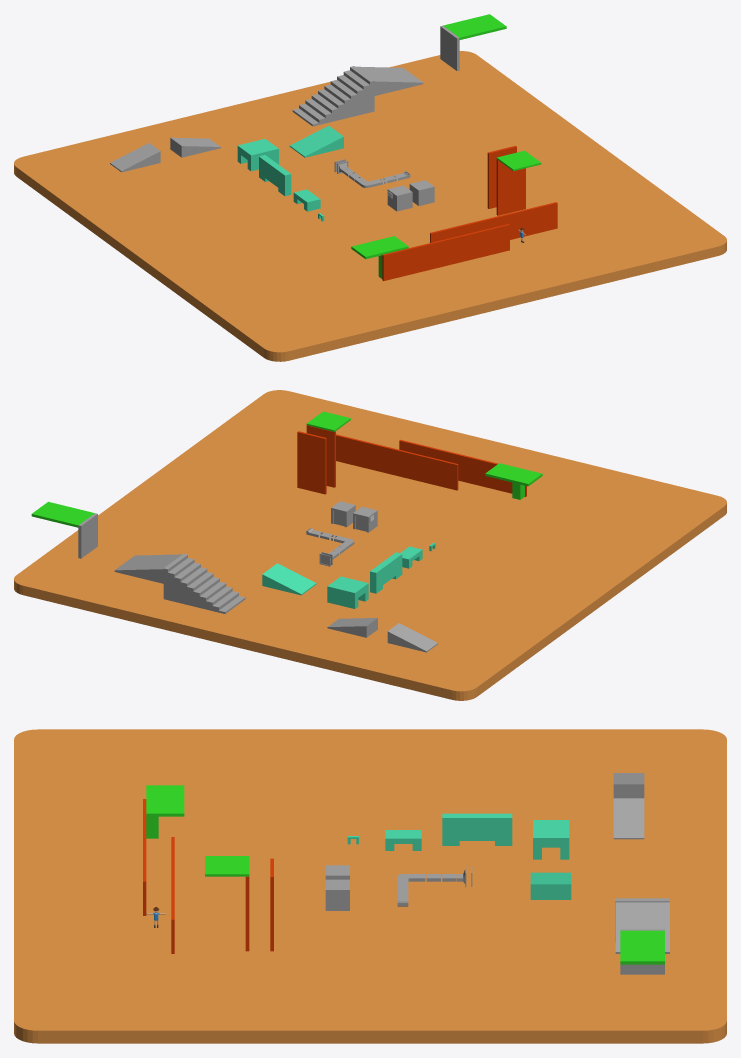
File: mechanics-scenary.fbx
3 renders of one model, top to bottom at view 1: azimuth 30°, elevation 25°; view 2: azimuth 150°, elevation 25°; view 3: azimuth 270°, elevation 25°, orthographic. The views are drawn at different scales.
Visible parts, largest first — view 1: Cube, Cube.002, Cube.012, Cube.001, Cube.011, Cube.005, Plane, Plane.003, Cube.013, Plane.002, Cube.010, Cube.004 (+3 smaller); view 2: Cube, Cube.001, Cube.012, Cube.002, Cube.006, Cube.011, Plane, Cube.013, Plane.003, Plane.002, Cube.010, Cube.004 (+5 smaller); view 3: Cube, Cube.010, Cube.011, Plane, Plane.001, Cube.013, Cube.004, Plane.003, Cube.007, Plane.002, elevator.001, Cube.008.
Part boxes in pixels (<box>): Cube: <box>14,51,726,361</box>; Cube.002: <box>382,224,509,281</box>; Cube.012: <box>292,66,374,126</box>; Cube.001: <box>430,202,557,242</box>; Cube.011: <box>440,14,506,70</box>; Cube.005: <box>496,159,525,215</box>; Plane: <box>356,66,423,95</box>; Plane.003: <box>289,125,343,157</box>; Cube.013: <box>237,139,278,171</box>; Plane.002: <box>110,143,160,172</box>; Cube.010: <box>259,155,291,196</box>; Cube.004: <box>351,236,408,259</box>; Cube: <box>14,390,726,700</box>; Cube.001: <box>336,434,458,490</box>; Cube.012: <box>163,553,245,613</box>; Cube.002: <box>399,439,526,496</box>; Cube.006: <box>297,431,326,494</box>; Cube.011: <box>31,501,97,558</box>; Plane: <box>114,554,181,583</box>; Cube.013: <box>327,576,368,608</box>; Plane.003: <box>262,563,316,595</box>; Plane.002: <box>387,623,437,652</box>; Cube.010: <box>370,552,402,593</box>; Cube.004: <box>485,463,542,486</box>; Cube: <box>14,729,726,1043</box>; Cube.010: <box>442,813,512,845</box>; Cube.011: <box>620,929,664,974</box>; Plane: <box>615,901,669,953</box>; Plane.001: <box>613,798,644,839</box>; Cube.013: <box>533,820,569,859</box>; Cube.004: <box>146,785,184,816</box>; Plane.003: <box>530,872,571,899</box>; Cube.007: <box>205,856,249,876</box>; Plane.002: <box>613,773,644,798</box>; elevator.001: <box>325,879,349,910</box>; Cube.008: <box>385,830,421,850</box>.
Bounding box in the file's own units: 10000 × 1390 × 10000.
